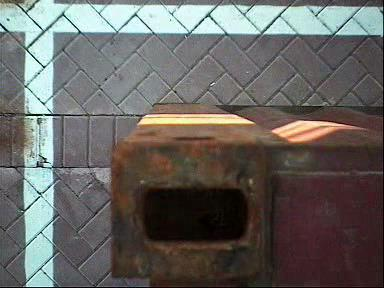groundmarker_2: (95, 13, 149, 58), (95, 161, 148, 205)
